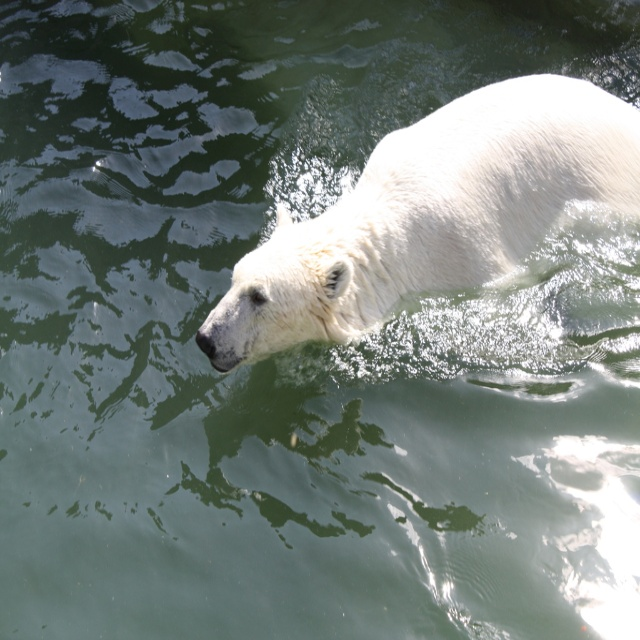Polar bear: (196, 73, 639, 373)
